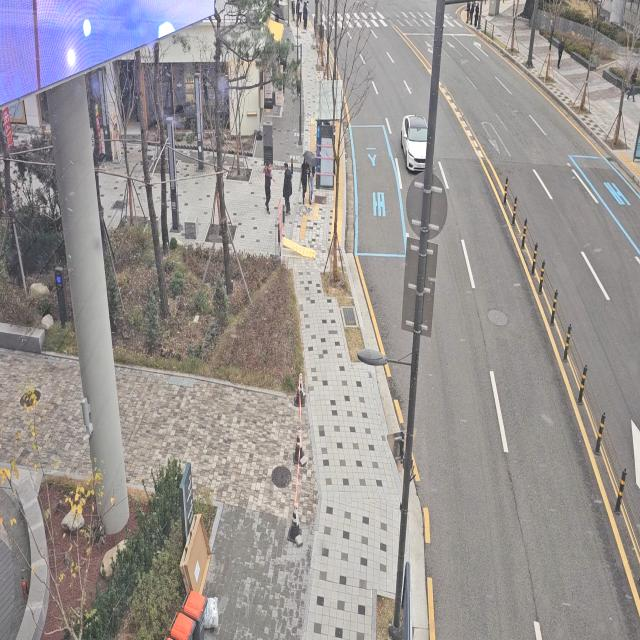Car: (398, 100, 437, 178)
